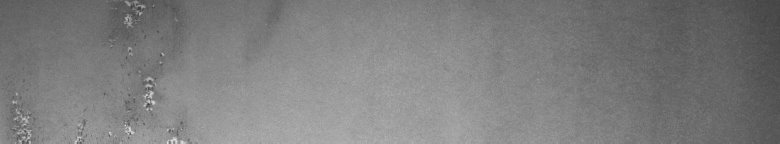hc: (4, 4, 183, 136)
